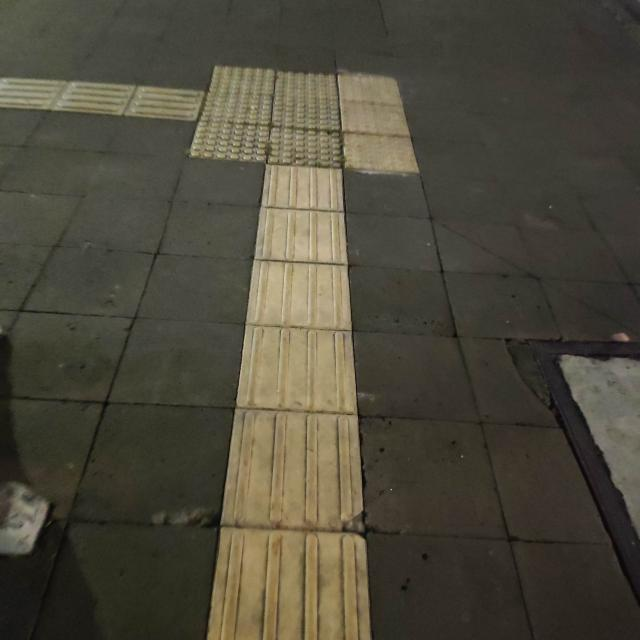kiri: (39, 52, 378, 205)
